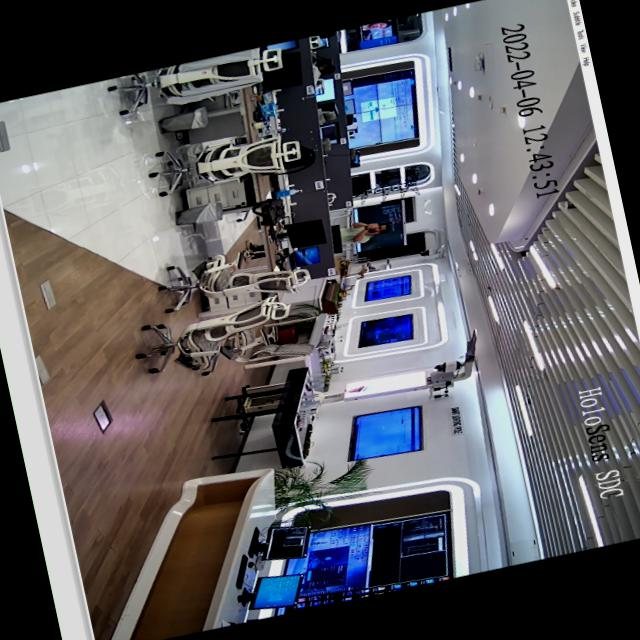long weapon: (346, 216, 402, 238)
